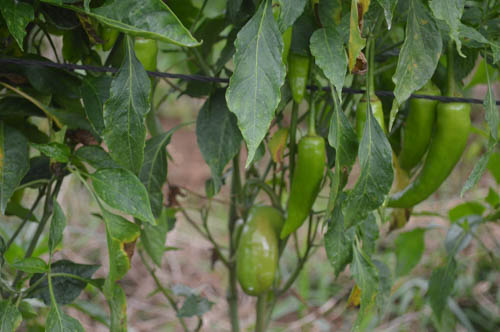ChiliPepper: (382, 97, 473, 224), (279, 134, 323, 243), (237, 207, 279, 302), (395, 91, 435, 174), (127, 36, 167, 82), (354, 97, 386, 149), (287, 54, 308, 103)
